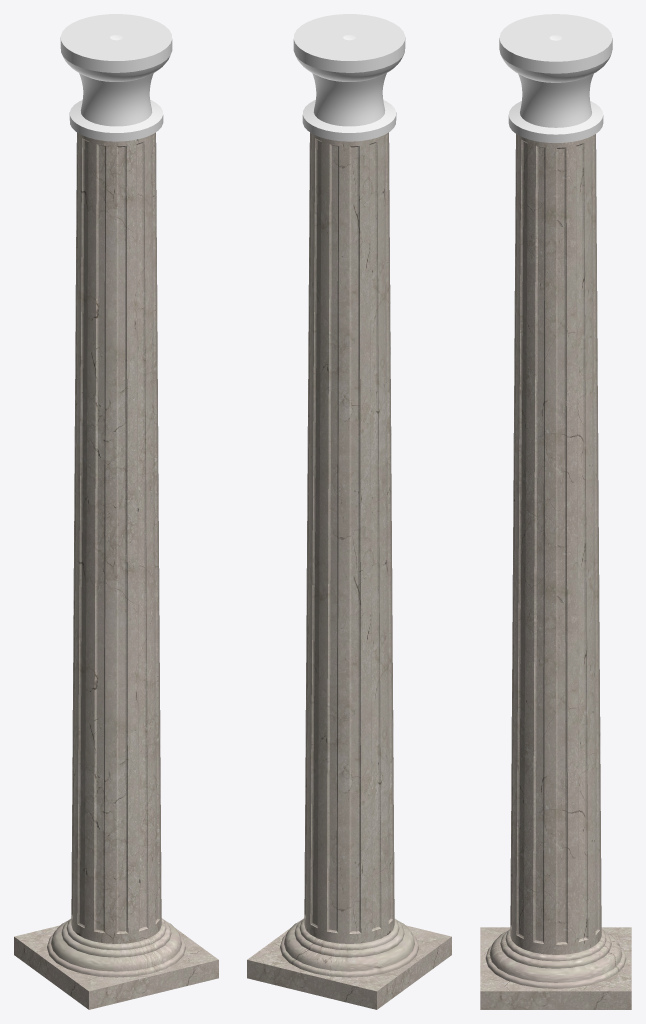
File: pasted__column_in_temple03.fbx
The picture shows the model from 3 angles, left to right: view 1: azimuth 30°, elevation 25°; view 2: azimuth 150°, elevation 25°; view 3: azimuth 270°, elevation 25°; orthographic projection.
Visible parts, largest first — view 1: pasted__marble_tile_124, pasted__gold_21, pasted__marble_tile_123, pasted__marble_tile_125; view 2: pasted__marble_tile_124, pasted__gold_21, pasted__marble_tile_123, pasted__marble_tile_125; view 3: pasted__marble_tile_124, pasted__gold_21, pasted__marble_tile_123, pasted__marble_tile_125.
Boxes of the visible parts, bbox=[...] form: pasted__marble_tile_124: bbox=[71, 132, 161, 943]; pasted__gold_21: bbox=[60, 14, 172, 141]; pasted__marble_tile_123: bbox=[14, 918, 218, 1009]; pasted__marble_tile_125: bbox=[47, 919, 185, 977]; pasted__marble_tile_124: bbox=[304, 132, 394, 943]; pasted__gold_21: bbox=[293, 14, 405, 141]; pasted__marble_tile_123: bbox=[247, 918, 451, 1009]; pasted__marble_tile_125: bbox=[280, 919, 418, 977]; pasted__marble_tile_124: bbox=[510, 134, 601, 954]; pasted__gold_21: bbox=[499, 14, 612, 142]; pasted__marble_tile_123: bbox=[480, 927, 631, 1009]; pasted__marble_tile_125: bbox=[485, 929, 626, 988].
Bounding box in the file's own units: 27.53 × 27.53 × 188.
